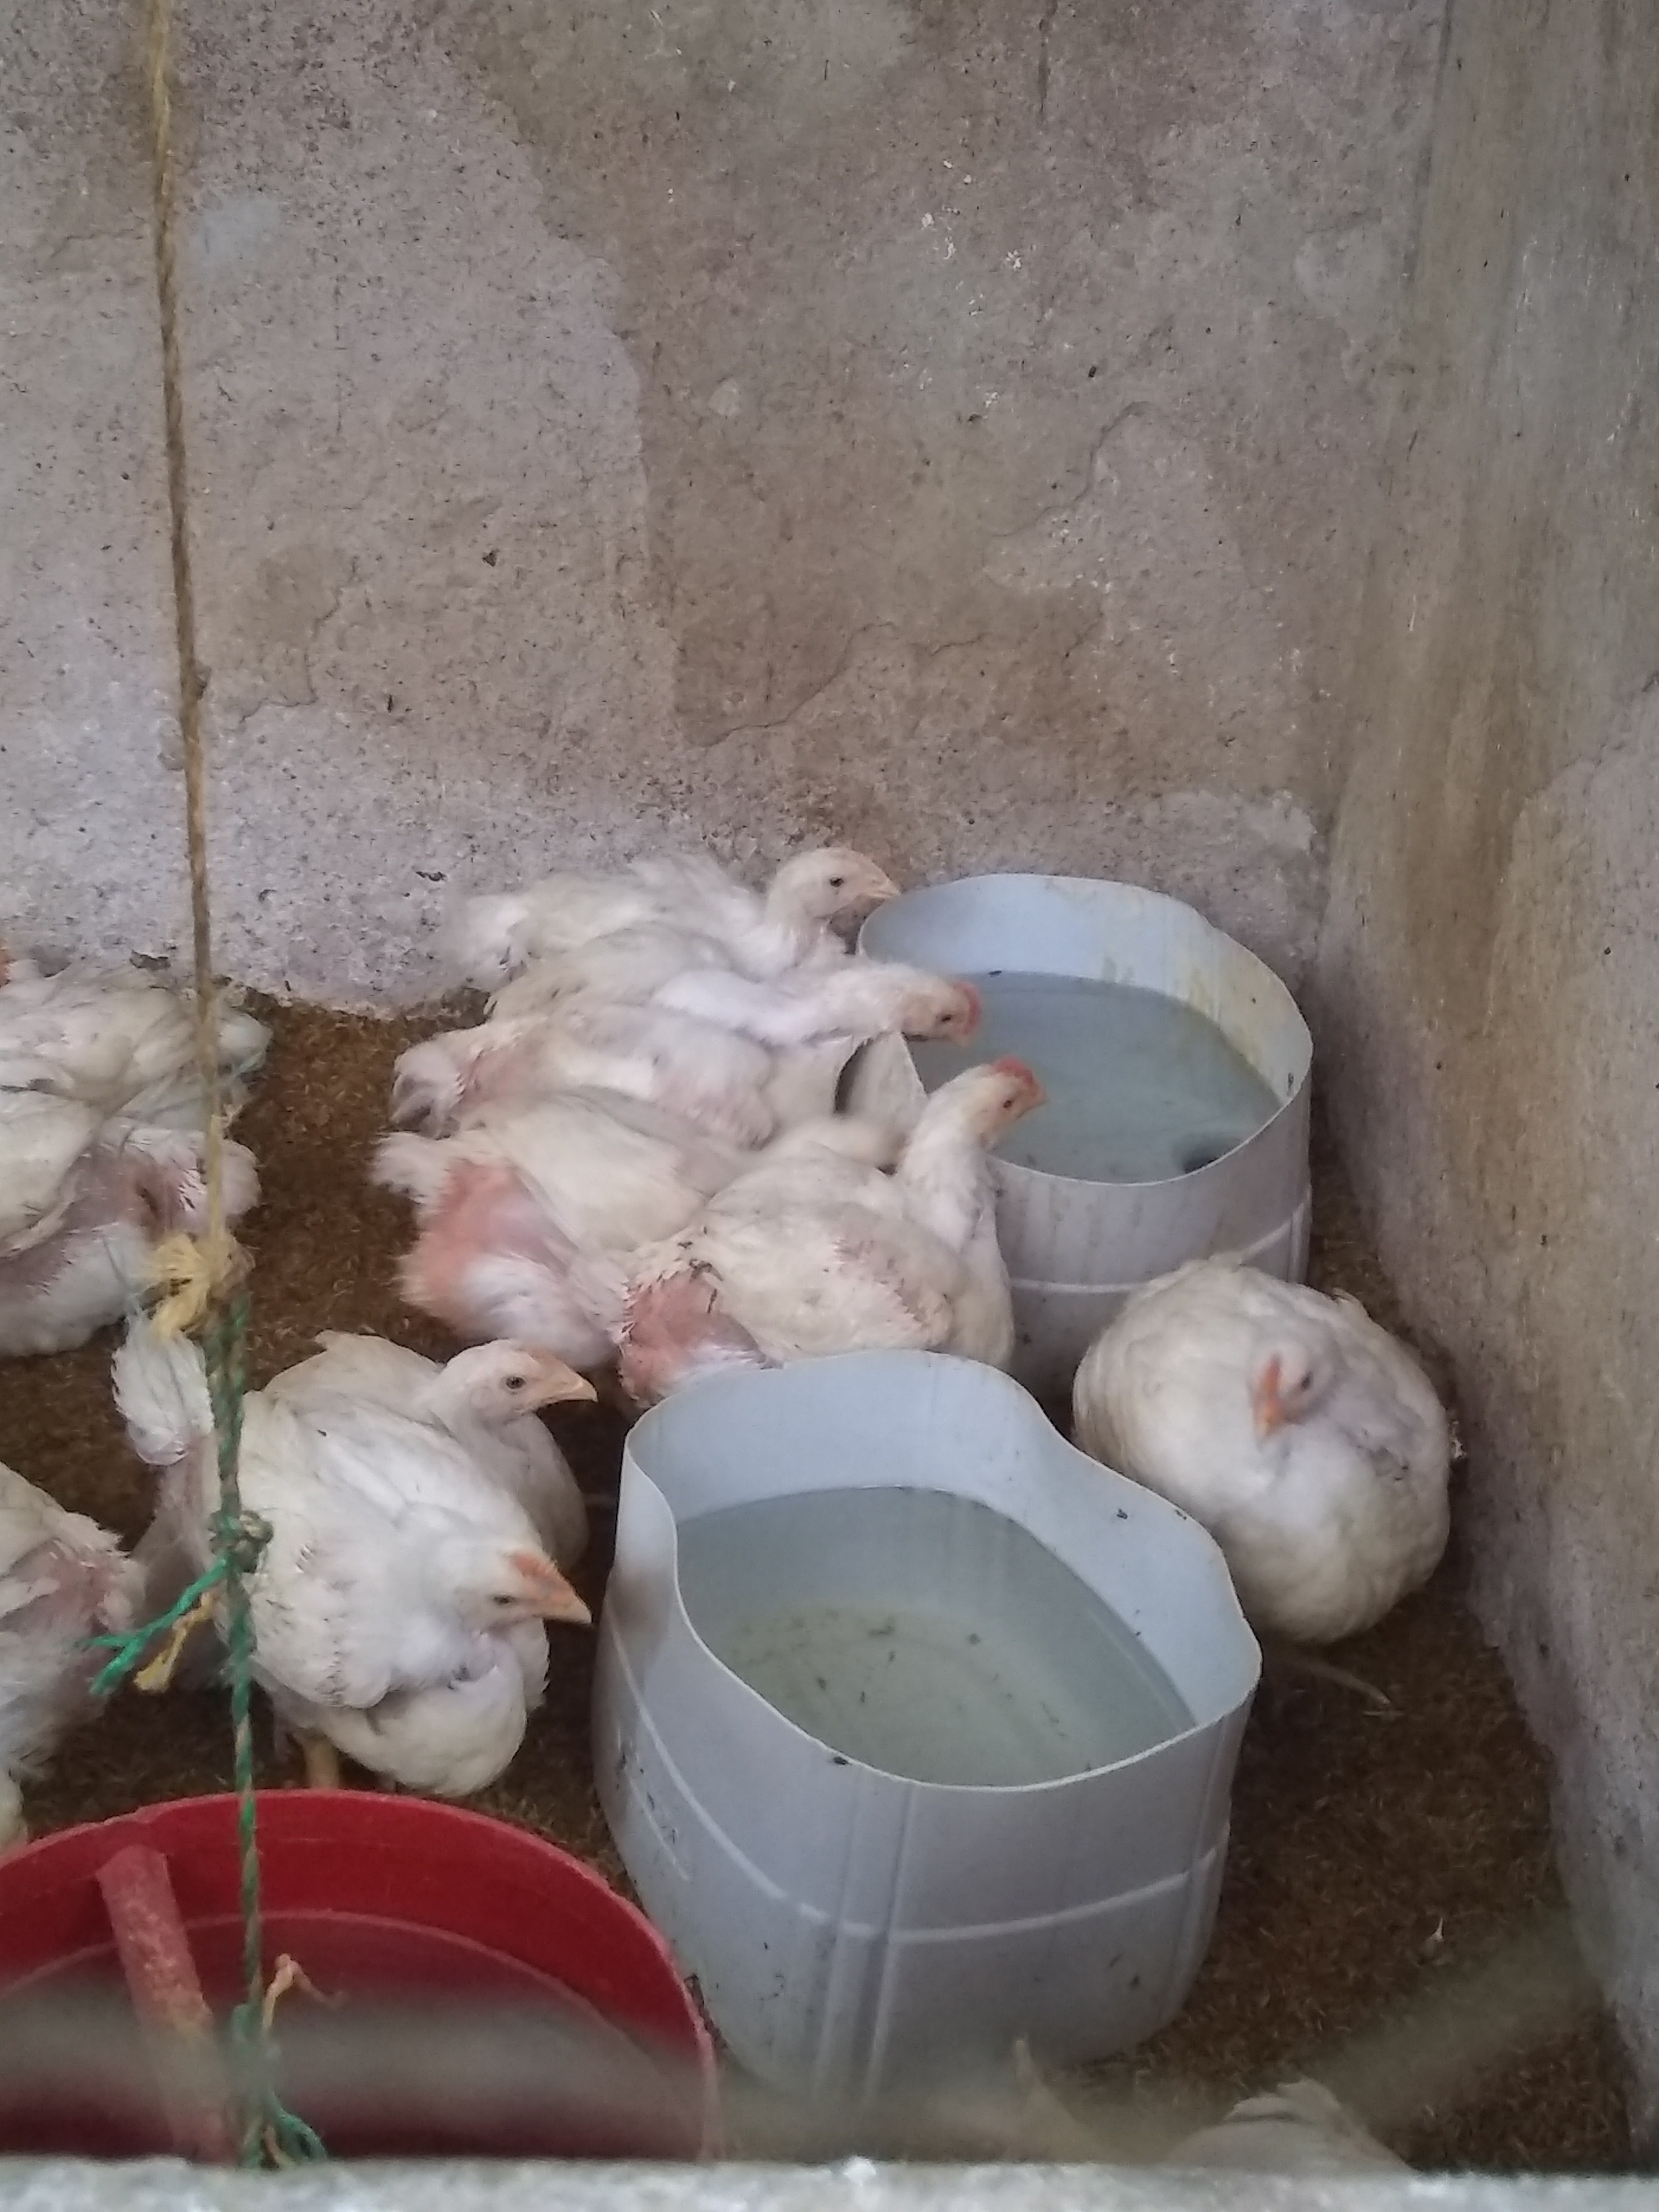Pollos: (1047, 1266, 1495, 1630), (193, 1447, 577, 1831), (692, 1045, 1105, 1374), (380, 1090, 917, 1332), (467, 822, 967, 991), (0, 1092, 220, 1355), (552, 960, 993, 1073), (0, 1468, 164, 1764), (0, 948, 284, 1097), (274, 1336, 582, 1453)
